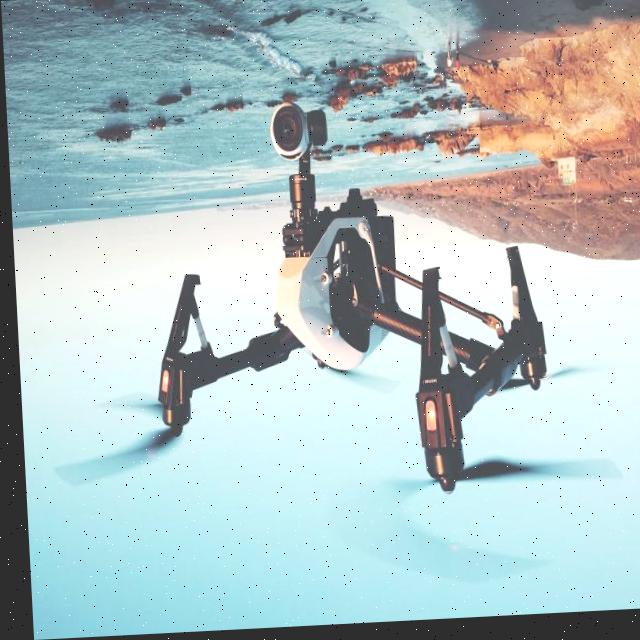drone: (78, 216, 605, 571)
